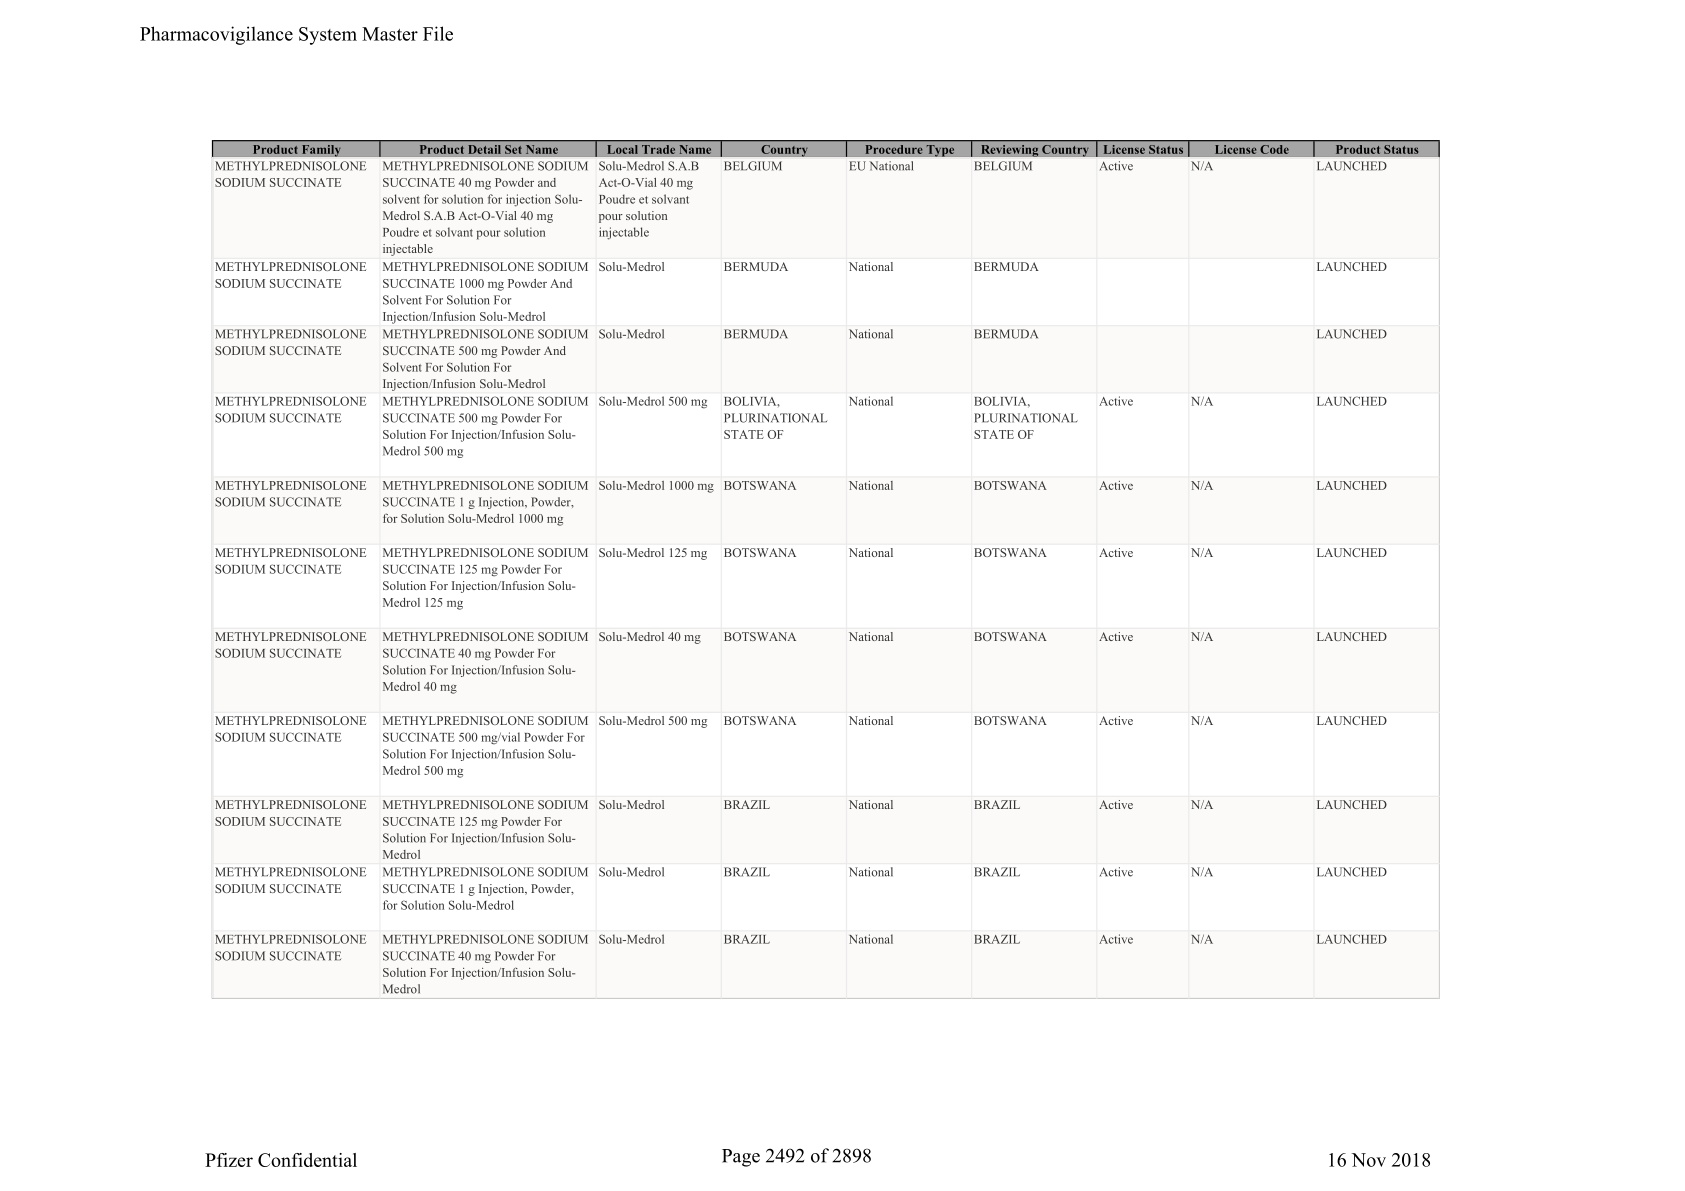full_lined: (210, 140, 1441, 1000)
